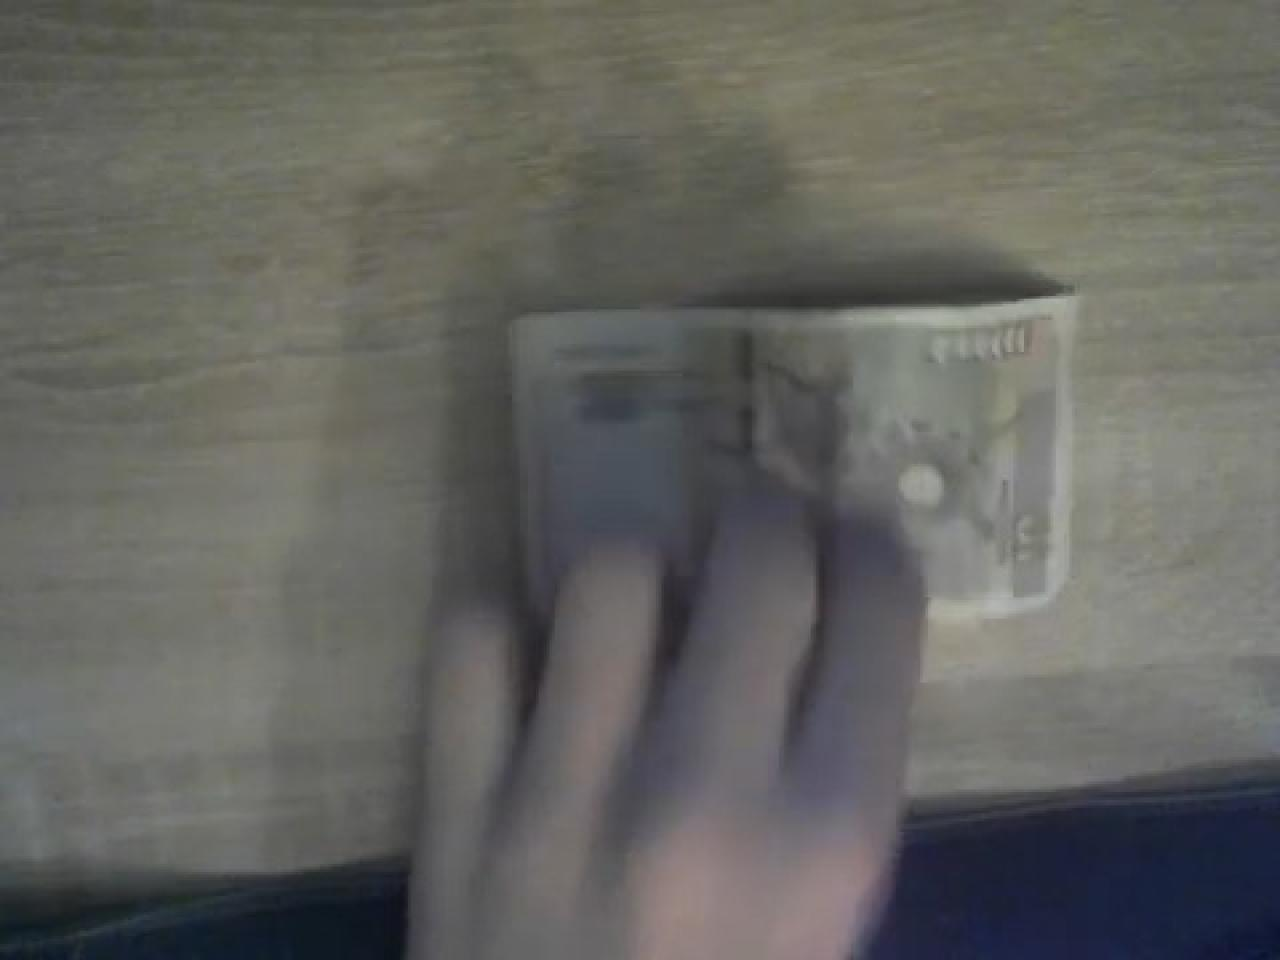10leva: (515, 290, 1080, 621)
